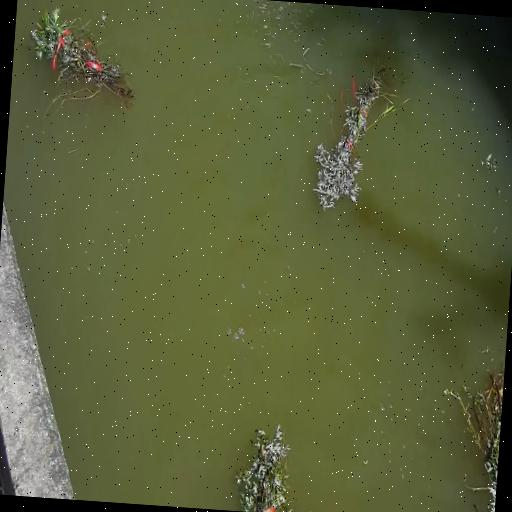twig: (311, 57, 410, 215), (21, 4, 143, 118), (434, 338, 506, 512), (232, 419, 301, 512)
